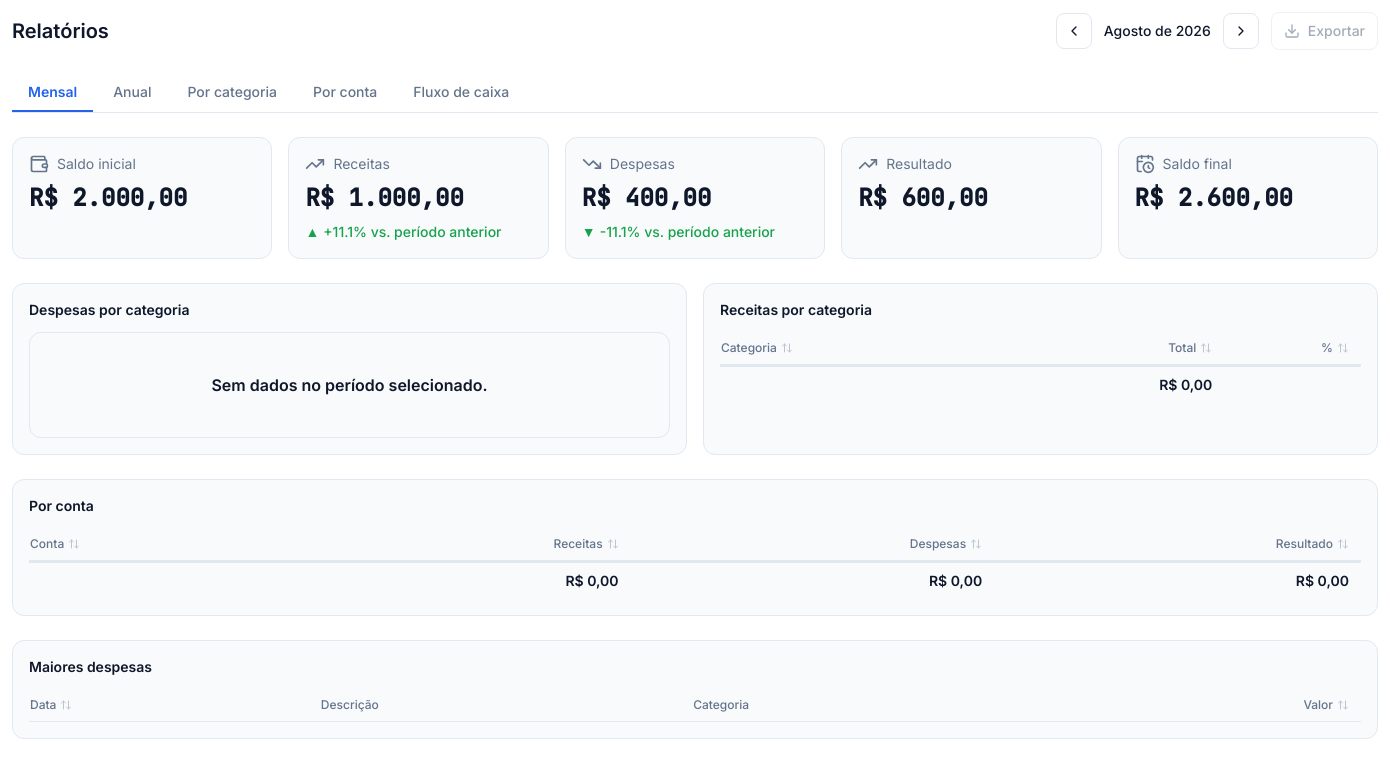
Test case: Relatorios › trocar para a aba Por conta busca o relatório e mostra a linha com totais
This screenshot has width=1390, height=780.
Expected: the text "Saldo inicial" is shown, 57,154 -> 136,174
What coordinates should you click on to do the following:
click the tab "Por conta"
I would click on:
 (345, 93)
Its box is 297,74 -> 393,112.
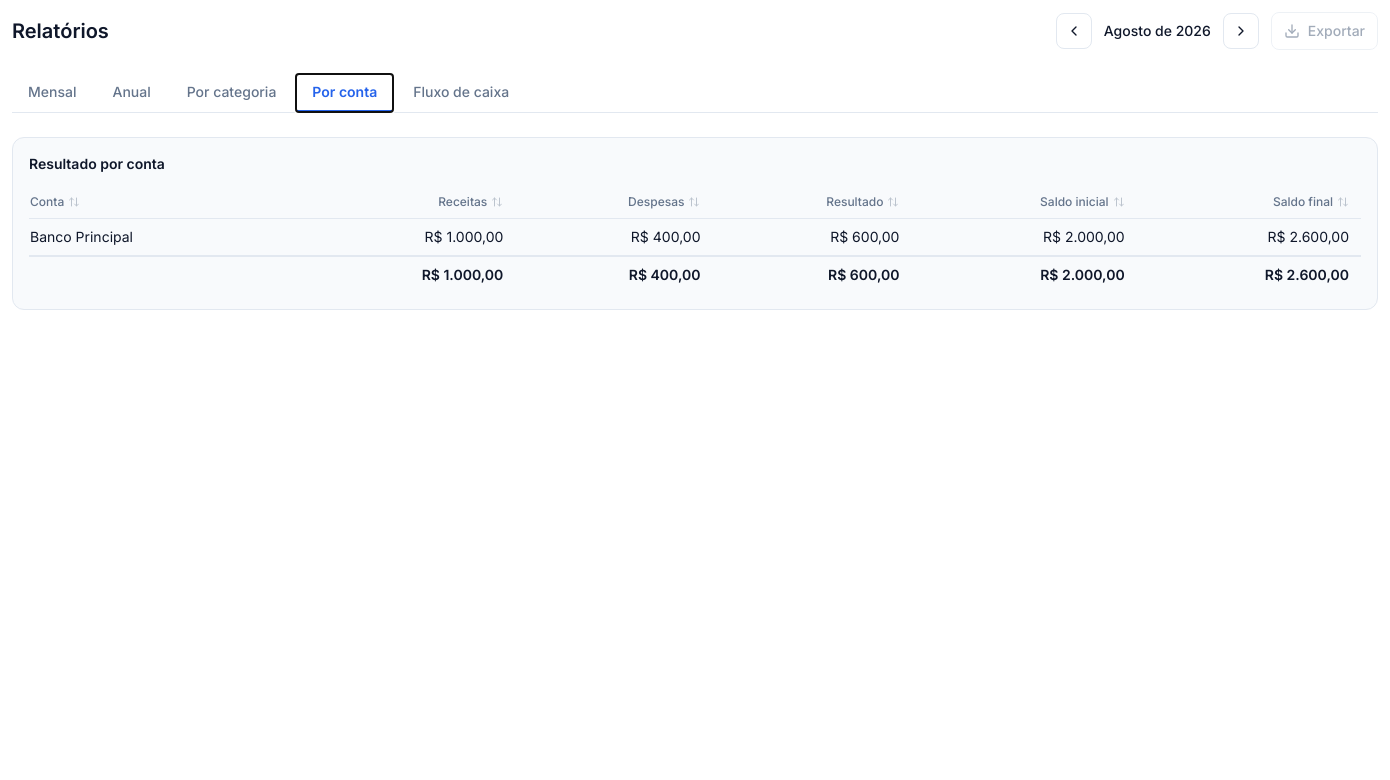
Expected: the text "Banco Principal" is shown, 29,219 -> 297,256
